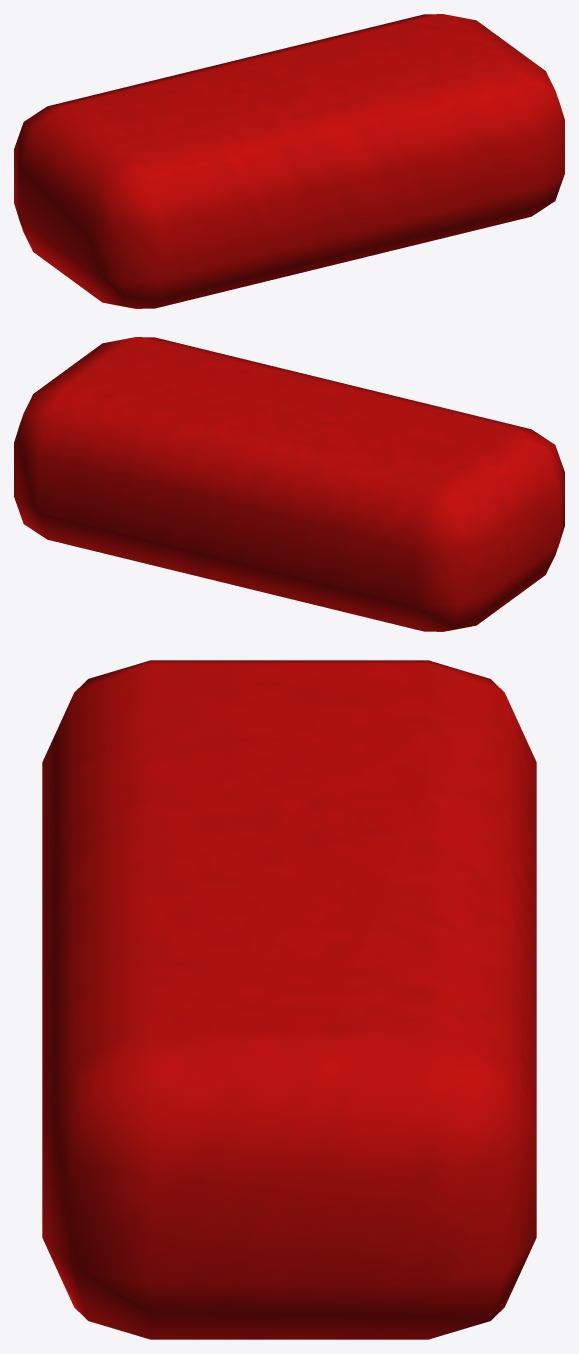
The picture shows the model from 3 angles, top to bottom: view 1: azimuth 30°, elevation 25°; view 2: azimuth 150°, elevation 25°; view 3: azimuth 270°, elevation 25°; orthographic projection. The views are drawn at different scales.
Bounding box in the file's own units: 0.55 × 0.17 × 0.25.
Materials: 1 (1 with a texture image).
